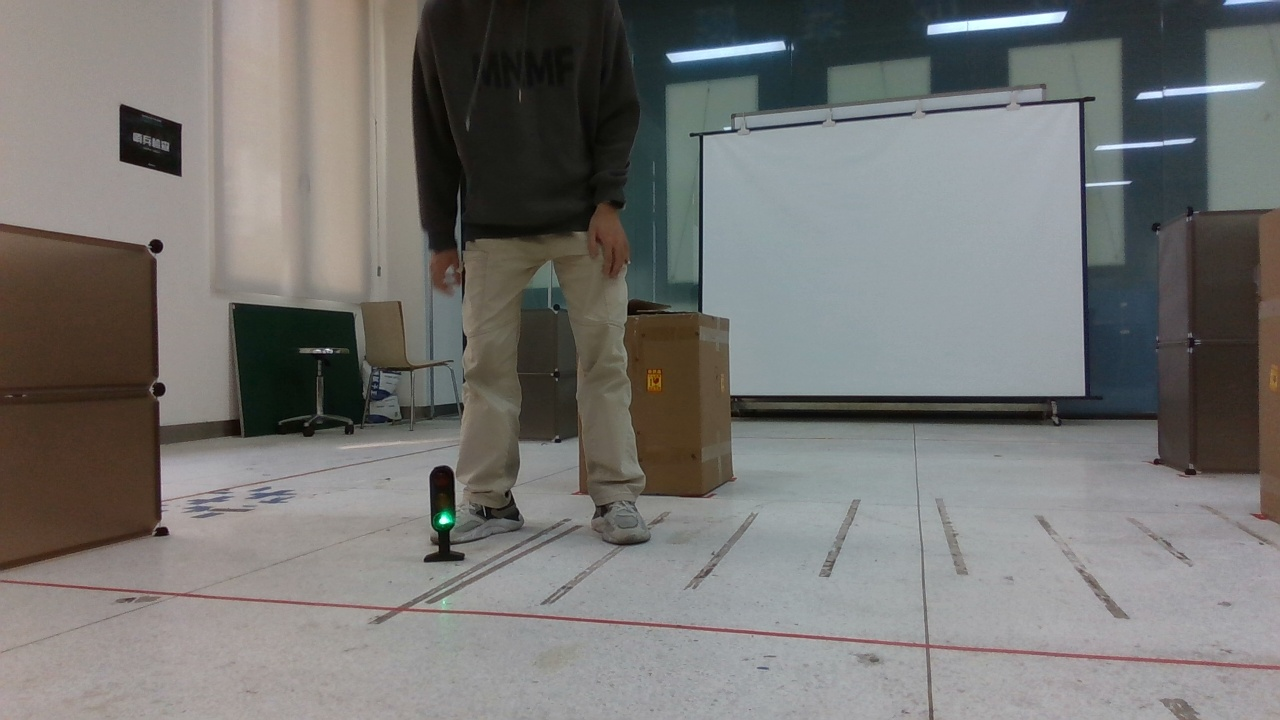green_light: (416, 455, 477, 576)
